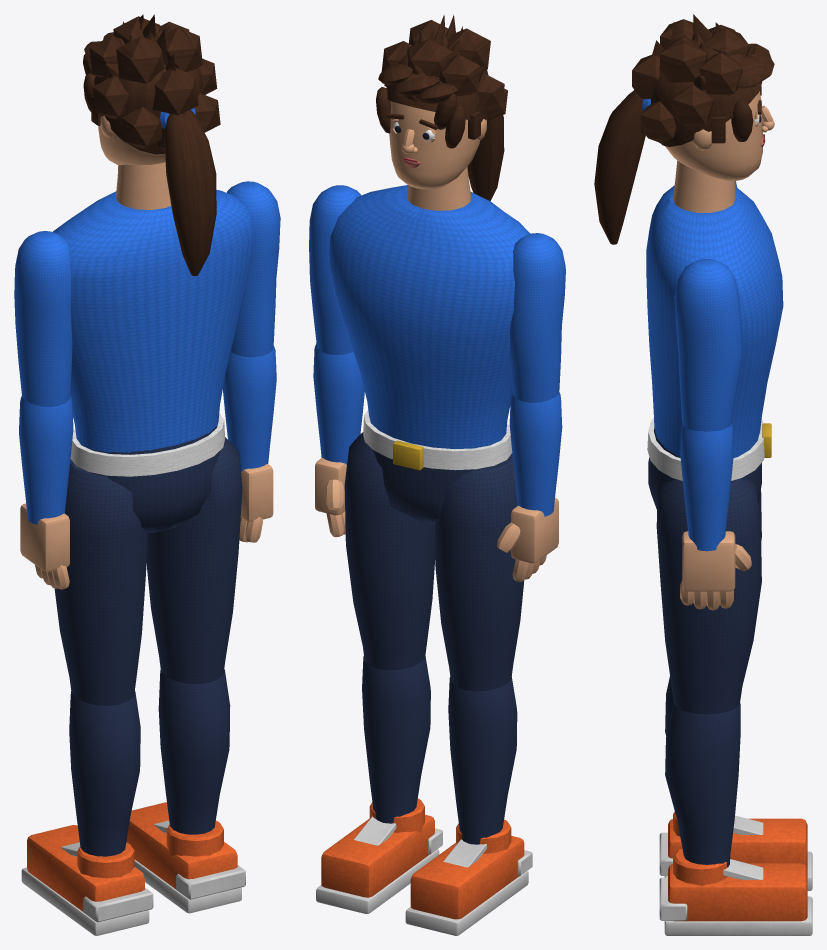
File: personnage_v2.glb
3 renders of one model, left to right at view 1: azimuth 30°, elevation 25°; view 2: azimuth 150°, elevation 25°; view 3: azimuth 270°, elevation 25°, orthographic. The views are drawn at different scales.
Parts seen in each view (by area): view 1: torse, tibia_G, tibia_D, cuisse_G, cuisse_D, cheveux_3, bras_G, avantbras_G, bassin, avantbras_D, cheveux_2, bras_D (+2 smaller); view 2: torse, tibia_G, tibia_D, cuisse_G, cuisse_D, bras_G, avantbras_G, bassin, avantbras_D, cheveux_3, tete, bras_D (+3 smaller); view 3: torse, tibia_D, cuisse_D, bras_D, avantbras_D, cheveux_3, cheveux_2, tibia_G, tete, bassin, cheveux_4, cheveux_1.
Boxes of the visible parts, left/top/right/bottom form: torse: left=53, top=162, right=253, bottom=452; tibia_G: left=21, top=691, right=153, bottom=935; tibia_D: left=126, top=669, right=245, bottom=913; cuisse_G: left=54, top=459, right=147, bottom=705; cuisse_D: left=146, top=437, right=242, bottom=684; cheveux_3: left=89, top=16, right=220, bottom=154; bras_G: left=14, top=231, right=72, bottom=406; avantbras_G: left=19, top=395, right=73, bottom=589; bassin: left=70, top=413, right=225, bottom=533; avantbras_D: left=223, top=345, right=276, bottom=542; cheveux_2: left=83, top=73, right=216, bottom=275; bras_D: left=226, top=181, right=280, bottom=357; torse: left=329, top=166, right=530, bottom=449; tibia_G: left=405, top=677, right=532, bottom=935; tibia_D: left=316, top=656, right=442, bottom=913; cuisse_G: left=435, top=453, right=524, bottom=691; cuisse_D: left=344, top=432, right=434, bottom=670; bras_G: left=509, top=233, right=565, bottom=402; avantbras_G: left=497, top=391, right=562, bottom=581; bassin: left=363, top=410, right=512, bottom=524; avantbras_D: left=313, top=343, right=364, bottom=537; cheveux_3: left=381, top=20, right=507, bottom=120; tete: left=386, top=101, right=486, bottom=189; bras_D: left=309, top=185, right=361, bottom=354; torse: left=646, top=160, right=783, bottom=458; tibia_D: left=659, top=703, right=812, bottom=935; cuisse_D: left=656, top=478, right=761, bottom=714; bras_D: left=674, top=259, right=743, bottom=431; avantbras_D: left=680, top=423, right=751, bottom=610; cheveux_3: left=632, top=19, right=763, bottom=146; cheveux_2: left=594, top=85, right=761, bottom=244; tibia_G: left=659, top=677, right=812, bottom=890; tete: left=665, top=86, right=774, bottom=181; bassin: left=647, top=417, right=771, bottom=509; cheveux_4: left=633, top=14, right=762, bottom=145; cheveux_1: left=706, top=43, right=774, bottom=143.
Size of the model in its own units: 0.632 by 2.1 by 0.469.
13 materials, 9 textured.
